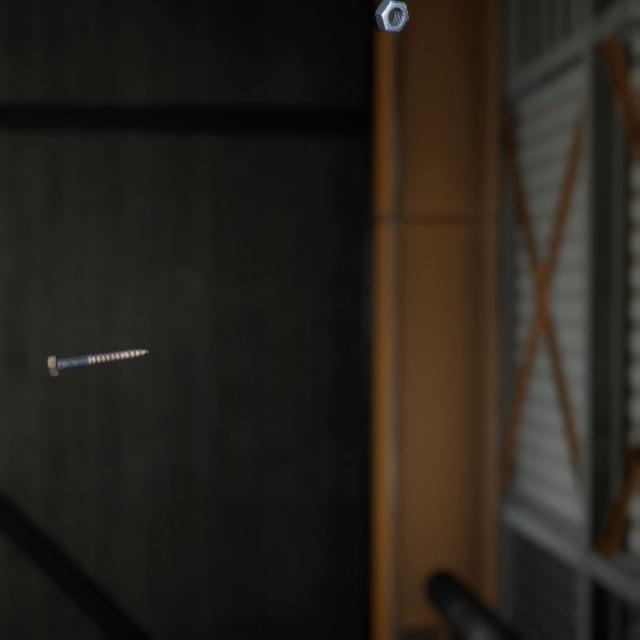bolt: (42, 325, 153, 362)
nut: (370, 0, 413, 30)
